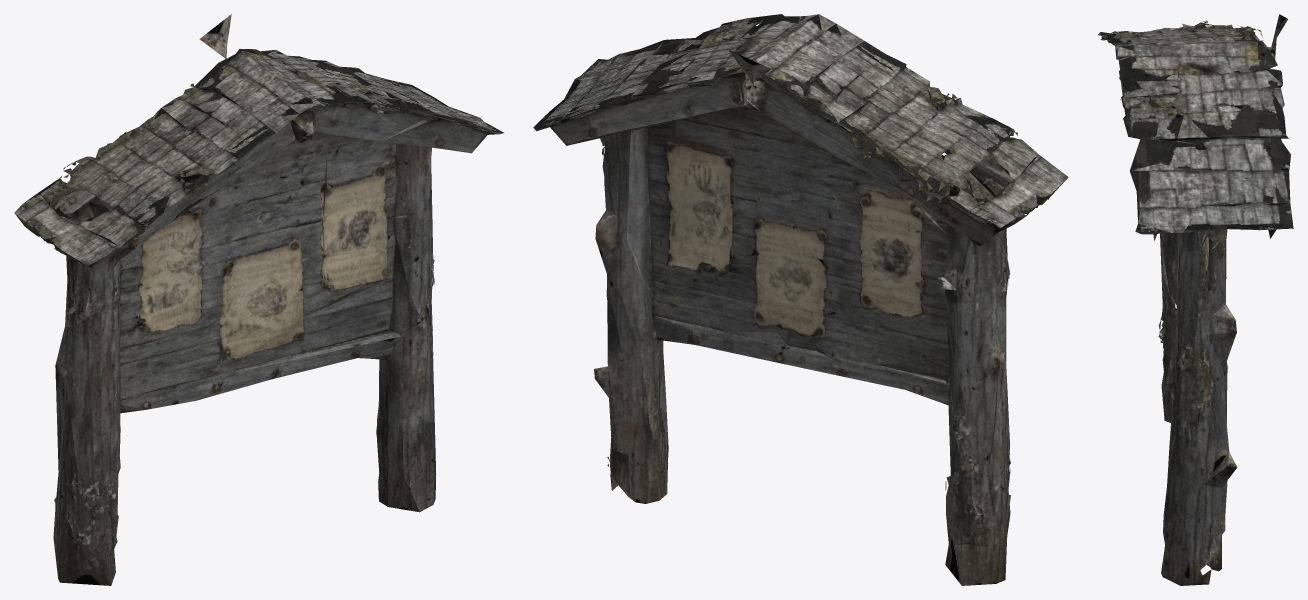
Rendered from contract-board.glb.
3 renders of one model, left to right at view 1: azimuth 30°, elevation 25°; view 2: azimuth 150°, elevation 25°; view 3: azimuth 270°, elevation 25°, orthographic. The views are drawn at different scales.
Visible parts, largest first — view 1: contract-board; view 2: contract-board; view 3: contract-board.
Part boxes in pixels (x1,y1,x2,y2): contract-board: [14, 14, 503, 585]; contract-board: [533, 14, 1068, 585]; contract-board: [1098, 14, 1293, 585].
Size of the model in its own units: 2.29 by 2.41 by 0.869.
1 material, 1 textured.
